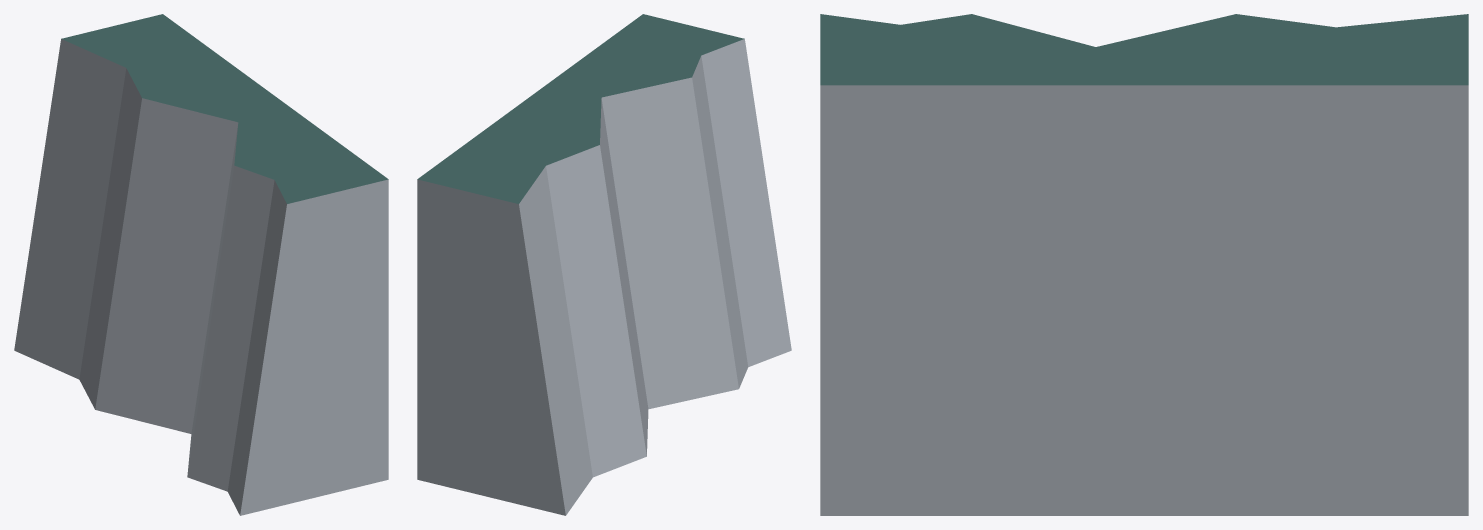
The model's file is Grey_Cliff_Bottom_Green_Top_01.fbx.
3 views of the same model, side by side, from view 1: azimuth 30°, elevation 25°; view 2: azimuth 150°, elevation 25°; view 3: azimuth 270°, elevation 25° (orthographic). The views are drawn at different scales.
Visible parts, largest first — view 1: Mesh1_Grey_Cliff_Bottom_Green_Top Model; view 2: Mesh1_Grey_Cliff_Bottom_Green_Top Model; view 3: Mesh1_Grey_Cliff_Bottom_Green_Top Model.
Part boxes in pixels (x1,y1,x2,y2): Mesh1_Grey_Cliff_Bottom_Green_Top Model: [14, 14, 388, 515]; Mesh1_Grey_Cliff_Bottom_Green_Top Model: [417, 14, 791, 515]; Mesh1_Grey_Cliff_Bottom_Green_Top Model: [820, 14, 1468, 515].
Bounding box in the file's own units: 1.14 × 2.2 × 3.
